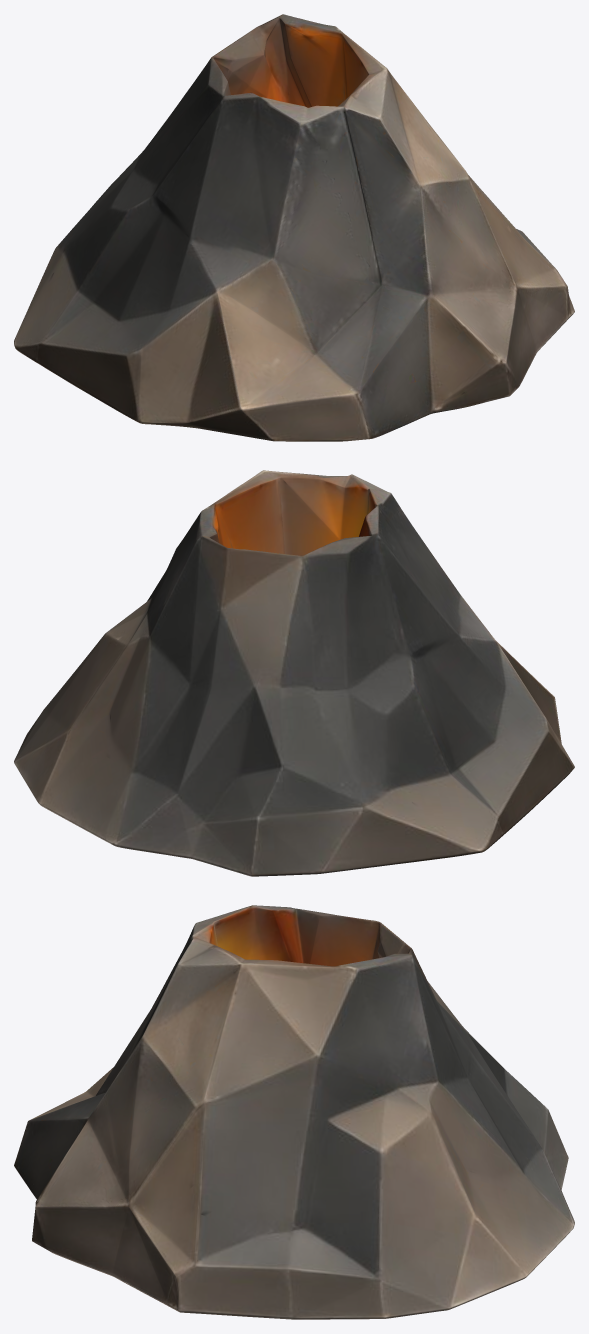
File: volcano.glb
3 renders of one model, top to bottom at view 1: azimuth 30°, elevation 25°; view 2: azimuth 150°, elevation 25°; view 3: azimuth 270°, elevation 25°, orthographic. The views are drawn at different scales.
Parts seen in each view (by area): view 1: node_0; view 2: node_0; view 3: node_0.
Boxes of the visible parts, box(x1,y1,x2,y2) form: node_0: box(14, 14, 574, 441); node_0: box(14, 470, 574, 876); node_0: box(14, 905, 574, 1319).
Bounding box in the file's own units: 1.01 × 0.5358 × 1.01.
1 material, 1 textured.
